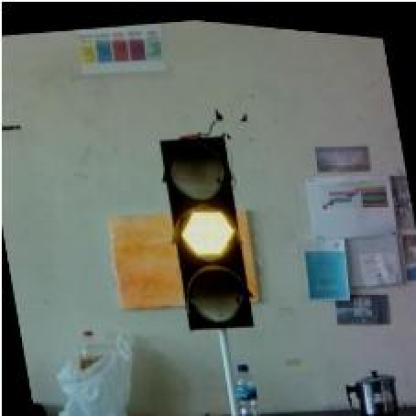yellow: (155, 126, 256, 333)
